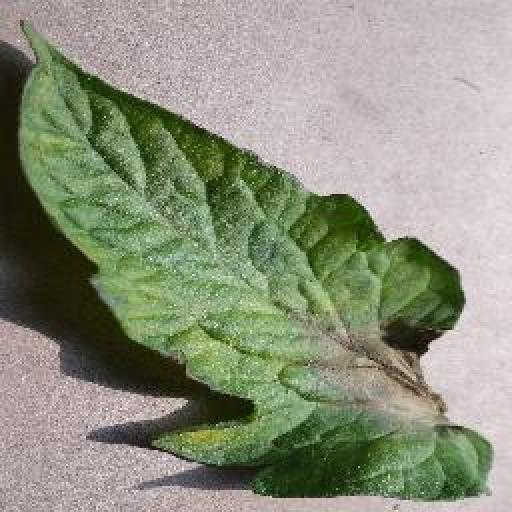Late Blight: (15, 16, 497, 503)
